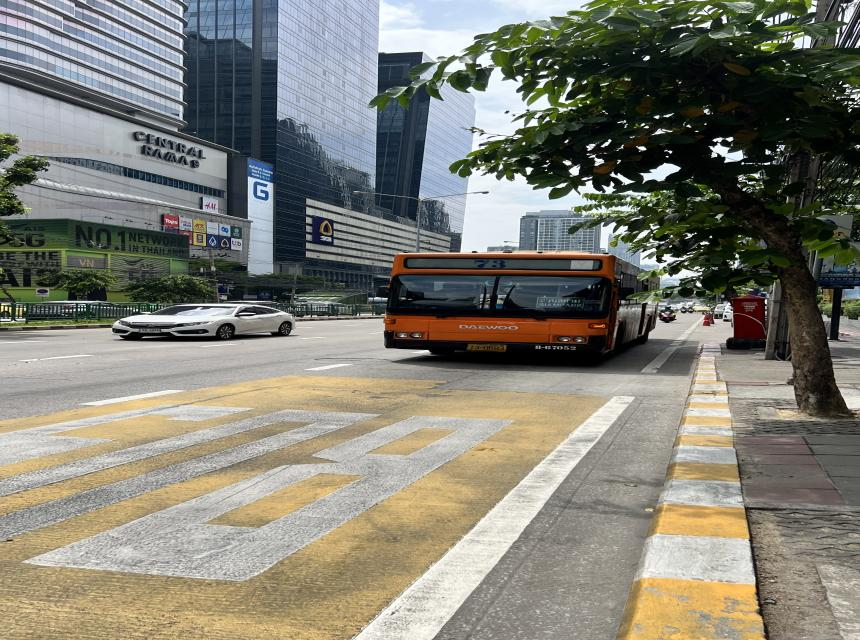BMTA-bus: (382, 250, 657, 365)
Bus Line Number: (463, 257, 518, 271)
Bus Side Number: (531, 343, 579, 351)
Destination Sign: (538, 296, 585, 309)
